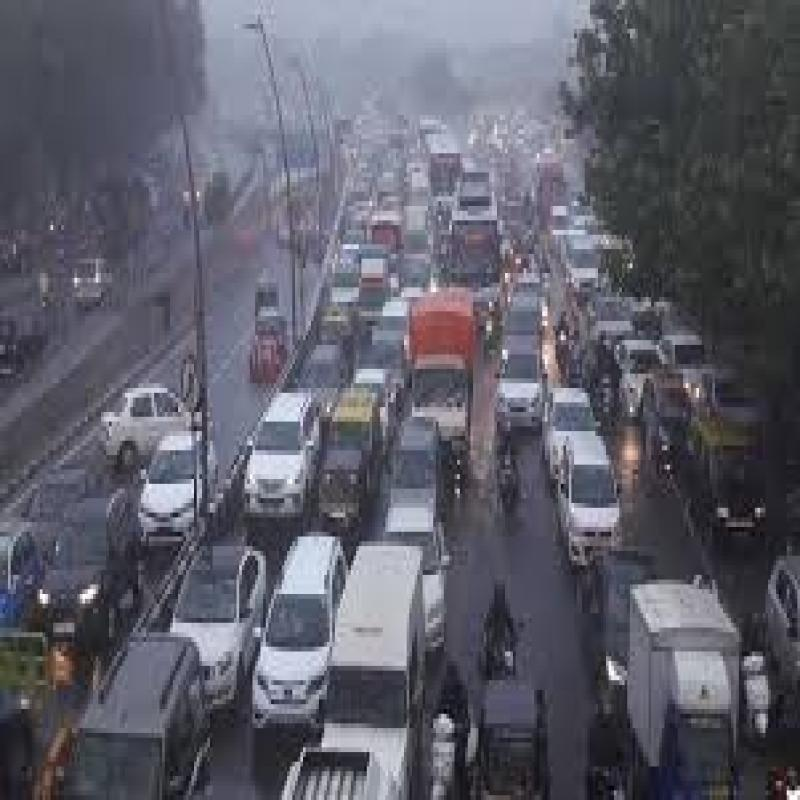car: (270, 525, 339, 761), (175, 540, 255, 700), (138, 419, 209, 559), (557, 444, 623, 567), (248, 374, 303, 512), (387, 404, 441, 524), (501, 338, 555, 435), (548, 388, 600, 464)
